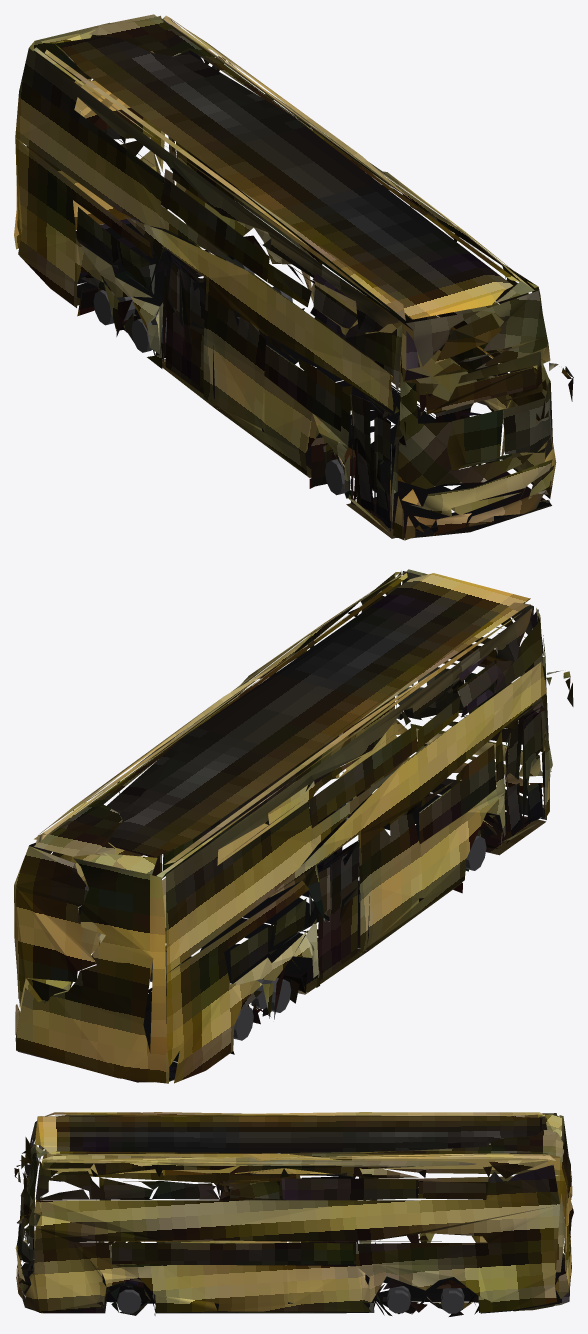
File: bus_f.glb
The picture shows the model from 3 angles, top to bottom: view 1: azimuth 30°, elevation 25°; view 2: azimuth 150°, elevation 25°; view 3: azimuth 270°, elevation 25°; orthographic projection. The views are drawn at different scales.
Parts seen in each view (by area): view 1: karosserie, rad_hl; view 2: karosserie, rad_hl; view 3: karosserie, rad_hl.
Part boxes in pixels (x1,y1,x2,y2): karosserie: (14, 14, 573, 540); rad_hl: (93, 259, 350, 495); karosserie: (14, 569, 573, 1083); rad_hl: (150, 816, 486, 1040); karosserie: (14, 1112, 573, 1316); rad_hl: (117, 1286, 464, 1313).
Bounding box in the file's own units: 3.53 × 4.56 × 13.77.
2 materials, 1 textured.
